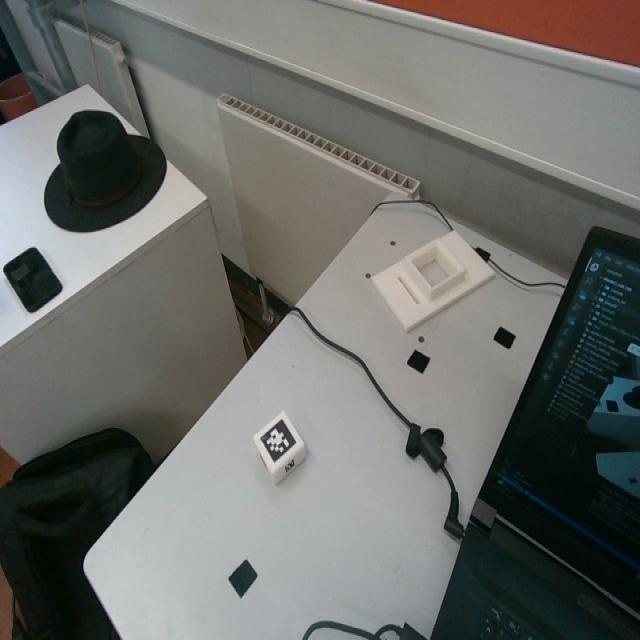Cube: (252, 407, 306, 488)
